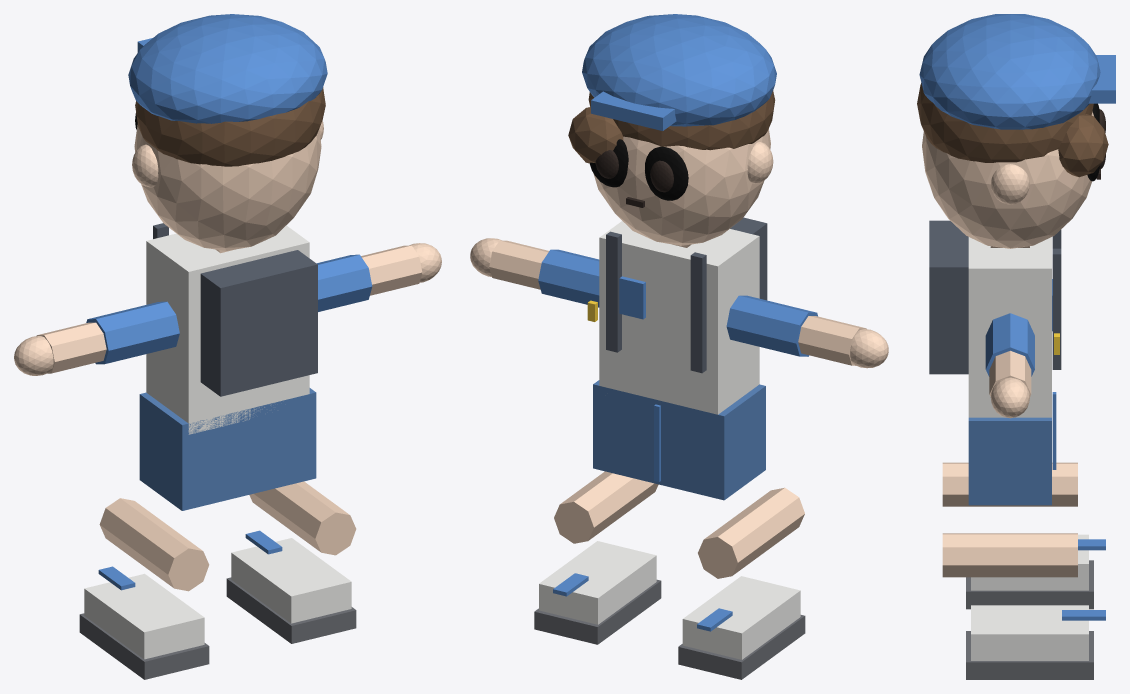
File: cute_elementary_boy.glb
The picture shows the model from 3 angles, left to right: view 1: azimuth 30°, elevation 25°; view 2: azimuth 150°, elevation 25°; view 3: azimuth 270°, elevation 25°; orthographic projection. The views are drawn at different scales.
Parts seen in each view (by area): view 1: Cap, Shorts, Backpack, Torso, Head, HairCap, Shoe_-1, Shoe_1, Leg_-1, Leg_1, UpperArm_-1, Sole_1 (+7 smaller); view 2: Torso, Cap, Shorts, Head, Shoe_-1, Shoe_1, Leg_-1, Leg_1, HairCap, UpperArm_-1, UpperArm_1, Sole_1 (+14 smaller); view 3: Cap, Head, Torso, Shorts, Shoe_1, Leg_1, Backpack, HairCap, Sole_1, Leg_-1, Sole_-1, Bang (+9 smaller).
Boxes of the visible parts, x1,y1,x2,y2 form: Cap: [128, 14, 327, 123]; Shorts: [139, 388, 316, 510]; Backpack: [200, 250, 317, 396]; Torso: [146, 225, 309, 434]; Head: [134, 124, 321, 250]; HairCap: [135, 87, 325, 166]; Shoe_-1: [84, 573, 204, 659]; Shoe_1: [231, 538, 351, 623]; Leg_-1: [99, 498, 209, 591]; Leg_1: [249, 481, 356, 555]; UpperArm_-1: [86, 301, 179, 364]; Sole_1: [226, 577, 356, 643]; Torso: [599, 221, 759, 414]; Cap: [582, 14, 776, 126]; Shorts: [593, 380, 765, 500]; Head: [593, 128, 770, 245]; Shoe_-1: [682, 576, 800, 659]; Shoe_1: [539, 541, 656, 624]; Leg_-1: [698, 487, 804, 578]; Leg_1: [554, 471, 658, 543]; HairCap: [588, 90, 775, 150]; UpperArm_-1: [726, 295, 817, 356]; UpperArm_1: [538, 249, 599, 307]; Sole_1: [534, 579, 661, 644]; Cap: [919, 14, 1100, 129]; Head: [922, 111, 1093, 248]; Torso: [968, 237, 1051, 417]; Shorts: [968, 417, 1051, 505]; Shoe_1: [971, 605, 1088, 660]; Leg_1: [942, 533, 1077, 577]; Backpack: [929, 220, 968, 374]; HairCap: [917, 83, 1093, 162]; Sole_1: [966, 631, 1093, 679]; Leg_-1: [942, 462, 1077, 506]; Sole_-1: [966, 560, 1093, 609]; Bang: [1058, 114, 1108, 177].
Bounding box in the file's own units: 1.96 × 2.69 × 0.81.
